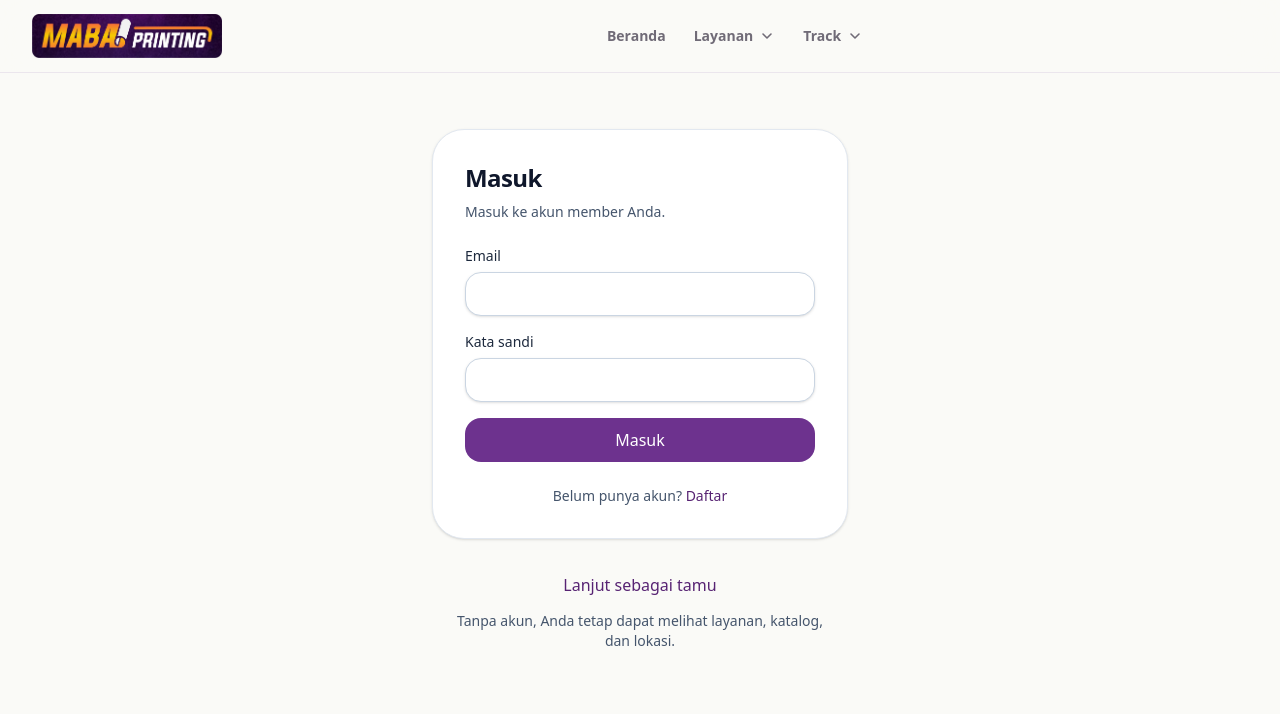
Login page › tells the visitor to slow down when rate limited
expect the heading "Masuk" is shown: met, box [465, 161, 542, 194]
Type "ana@example.test" into the field labelled "Email" at (640, 294), box [465, 272, 815, 316]
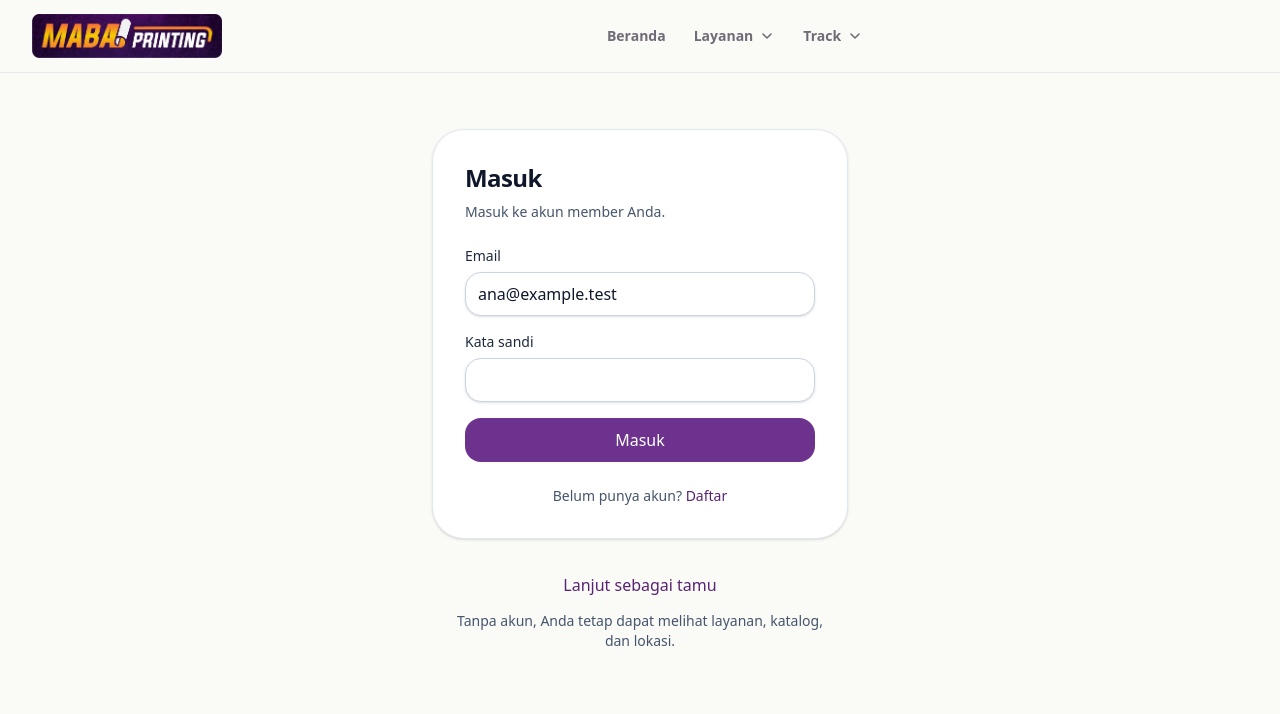
Type "x" into the password field labelled "Kata sandi" at (640, 380), box [465, 358, 815, 402]
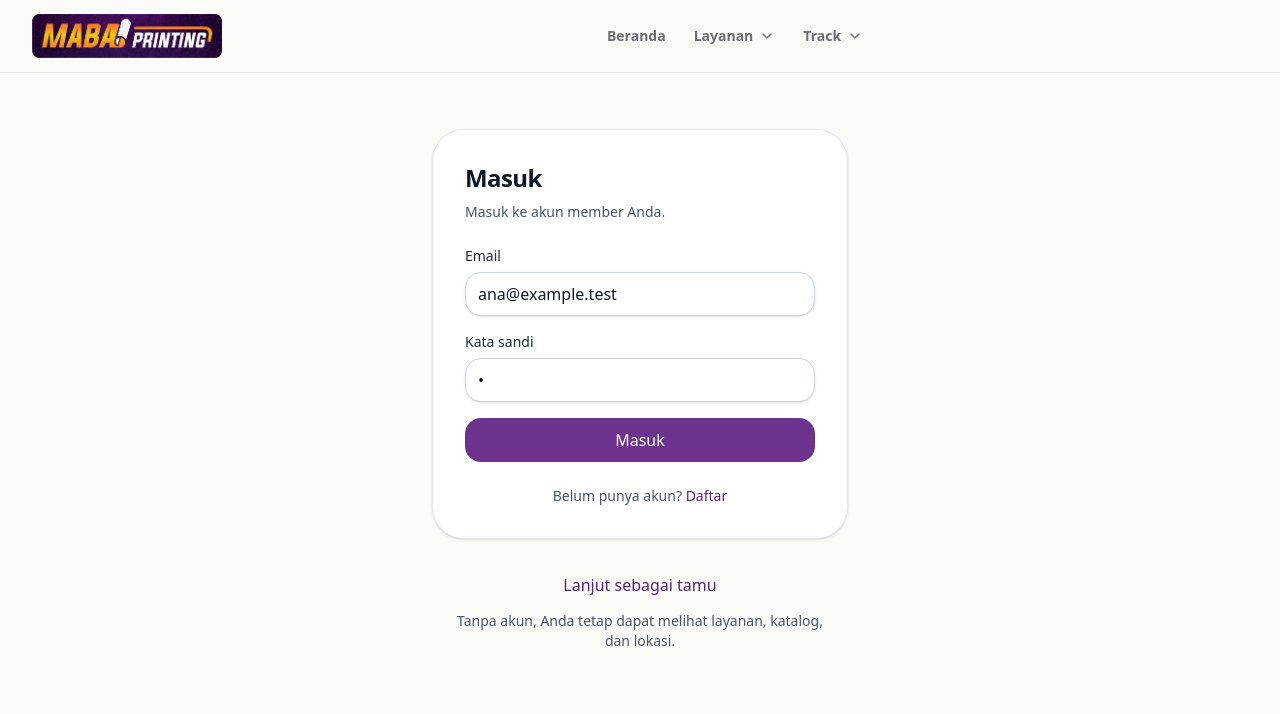
Click the button "Masuk" at (640, 440), box [465, 418, 815, 462]
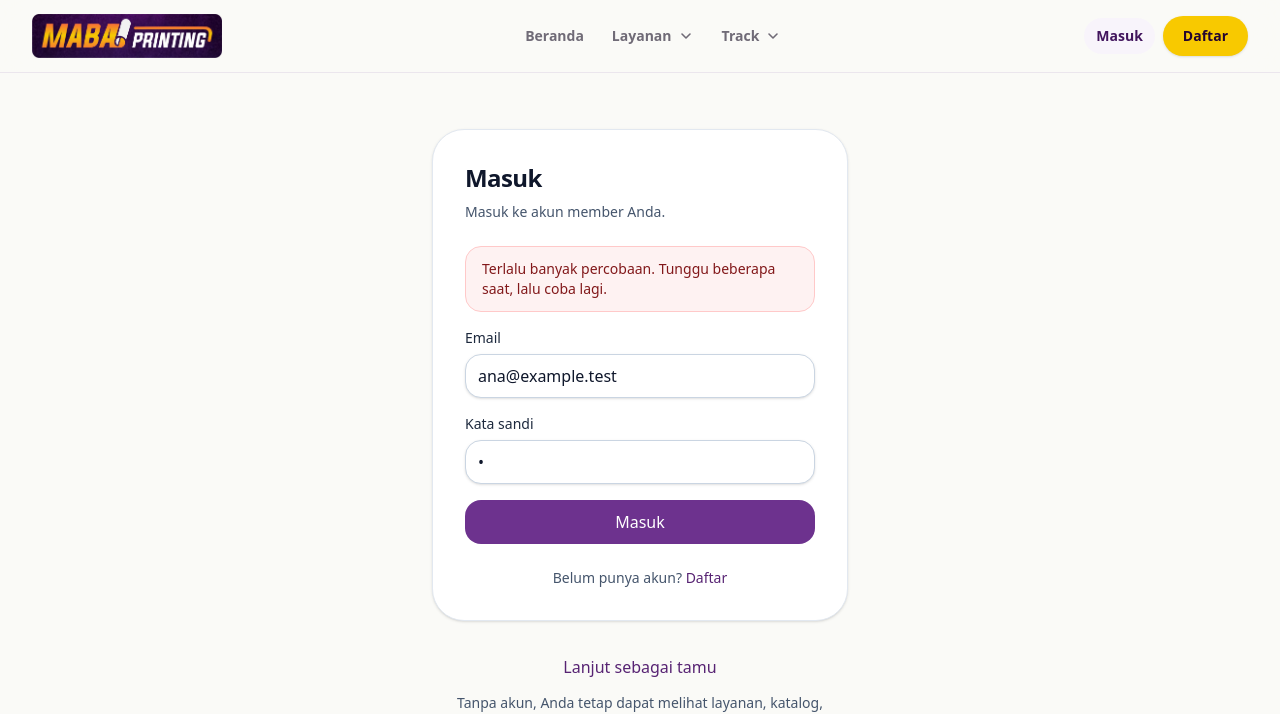
expect the message shows "Terlalu banyak percobaan": met, box [482, 259, 775, 298]
